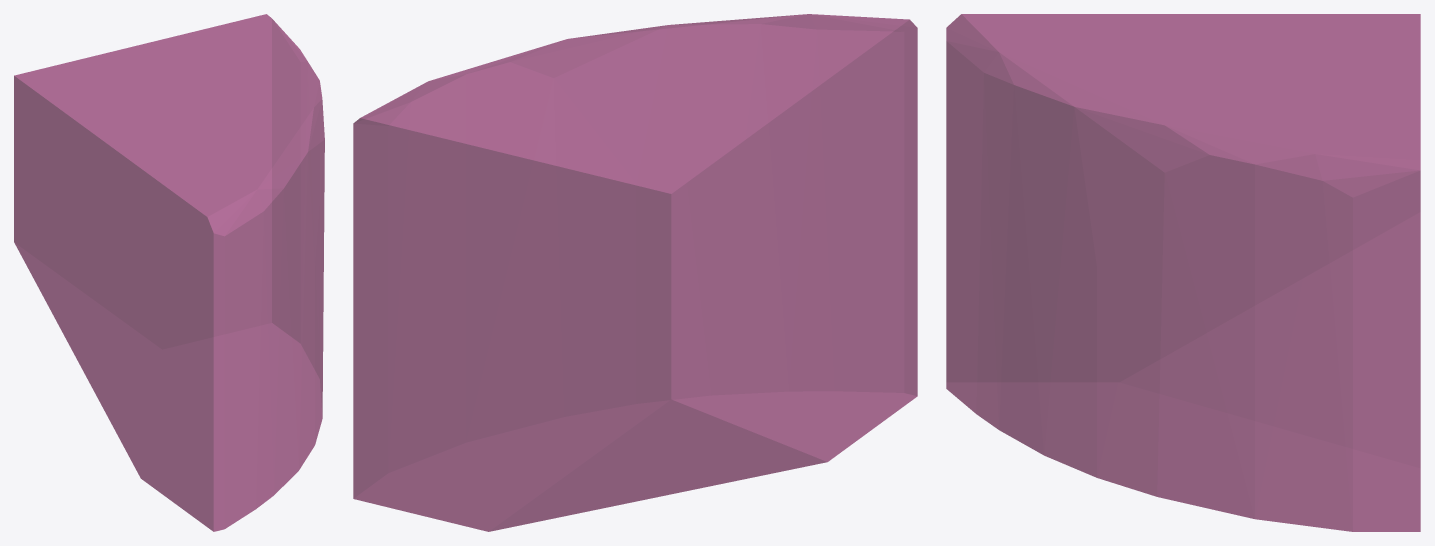
The picture shows the model from 3 angles, left to right: view 1: azimuth 30°, elevation 25°; view 2: azimuth 150°, elevation 25°; view 3: azimuth 270°, elevation 25°; orthographic projection. The views are drawn at different scales.
Visible parts, largest first — view 1: Shape_IndexedFaceSet.007_Shape_IndexedFaceSet.17582; view 2: Shape_IndexedFaceSet.007_Shape_IndexedFaceSet.17582; view 3: Shape_IndexedFaceSet.007_Shape_IndexedFaceSet.17582.
Part boxes in pixels (bbox=[...]): Shape_IndexedFaceSet.007_Shape_IndexedFaceSet.17582: bbox=[14, 14, 324, 531]; Shape_IndexedFaceSet.007_Shape_IndexedFaceSet.17582: bbox=[353, 14, 917, 531]; Shape_IndexedFaceSet.007_Shape_IndexedFaceSet.17582: bbox=[946, 14, 1420, 531].
Size of the model in its own units: 0.0828 by 0.0951 by 0.111.
